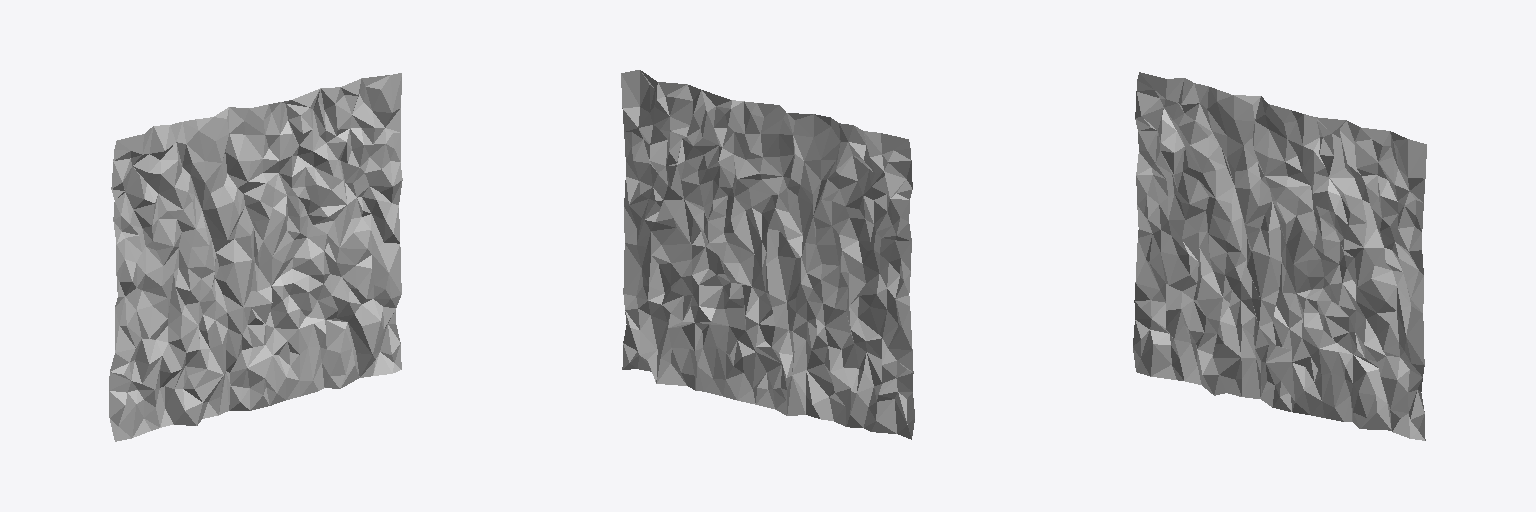
Rendered from cliff_2.obj.
3 renders of one model, left to right at view 1: azimuth 30°, elevation 25°; view 2: azimuth 150°, elevation 25°; view 3: azimuth 330°, elevation 25°, orthographic.
Parts seen in each view (by area): view 1: Plane.001; view 2: Plane.001; view 3: Plane.001.
Boxes of the visible parts, <box> form: Plane.001: <box>109,73,402,441</box>; Plane.001: <box>621,70,914,439</box>; Plane.001: <box>1133,72,1426,440</box>.
Size of the model in its own units: 204 by 202 by 10.48.